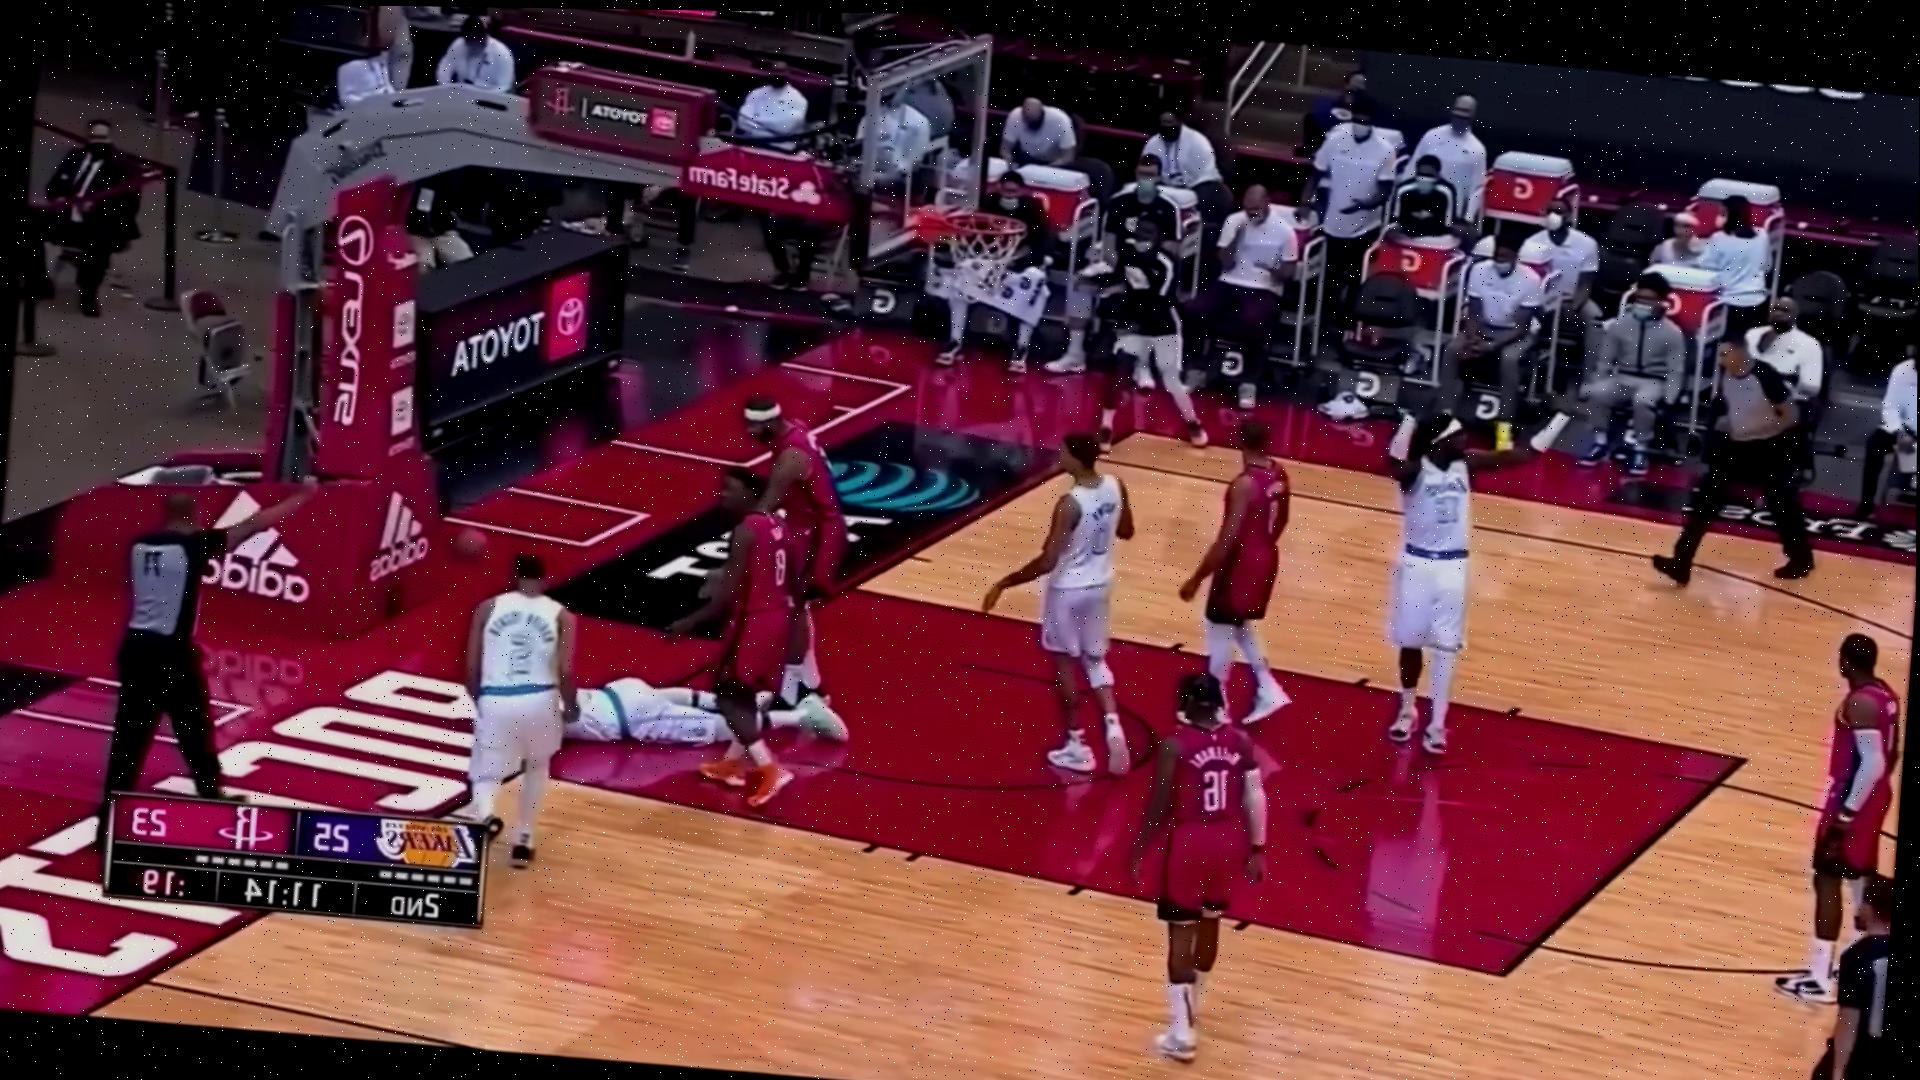foul: (439, 600, 864, 822)
